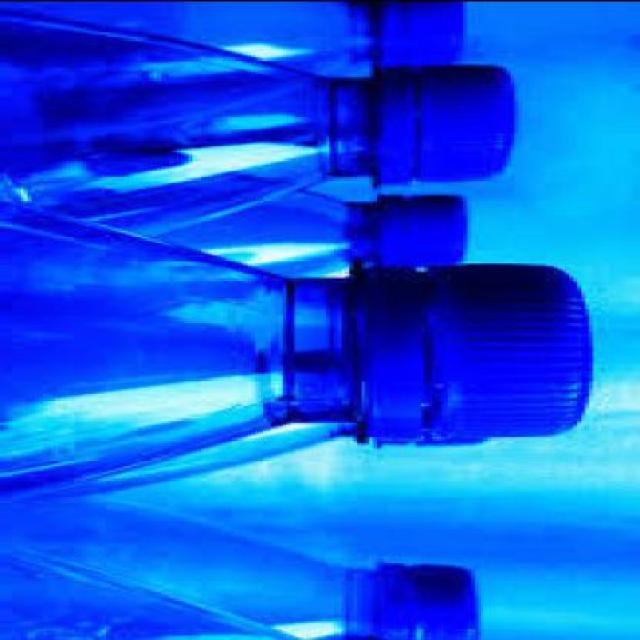PLASTIC: (3, 195, 597, 500), (4, 9, 522, 233), (3, 496, 483, 638), (357, 256, 597, 438), (4, 416, 499, 498), (3, 1, 472, 78), (4, 537, 318, 638), (146, 184, 472, 276), (372, 60, 526, 182), (361, 557, 487, 638), (366, 192, 472, 262), (372, 2, 474, 63), (346, 423, 491, 442)
